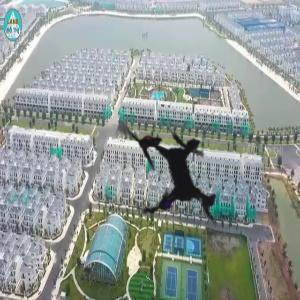drone: (70, 70, 278, 278)
